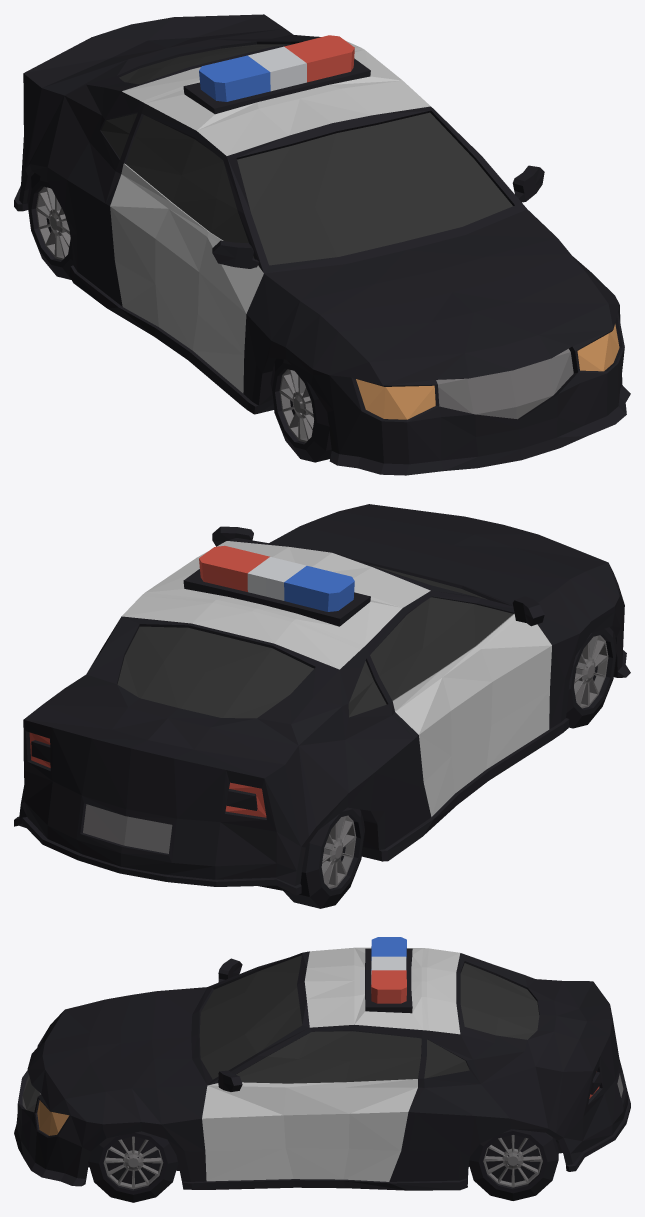
File: police-car.glb
The picture shows the model from 3 angles, top to bottom: view 1: azimuth 30°, elevation 25°; view 2: azimuth 150°, elevation 25°; view 3: azimuth 270°, elevation 25°; orthographic projection. The views are drawn at different scales.
Visible parts, largest first — view 1: Cop_Cube.001; view 2: Cop_Cube.001; view 3: Cop_Cube.001.
Boxes of the visible parts, x1,y1,x2,y2 form: Cop_Cube.001: [14, 14, 630, 475]; Cop_Cube.001: [14, 504, 630, 908]; Cop_Cube.001: [14, 937, 630, 1202].
Size of the model in its own units: 1.78 by 1.24 by 3.73.
1 material, 1 textured.
